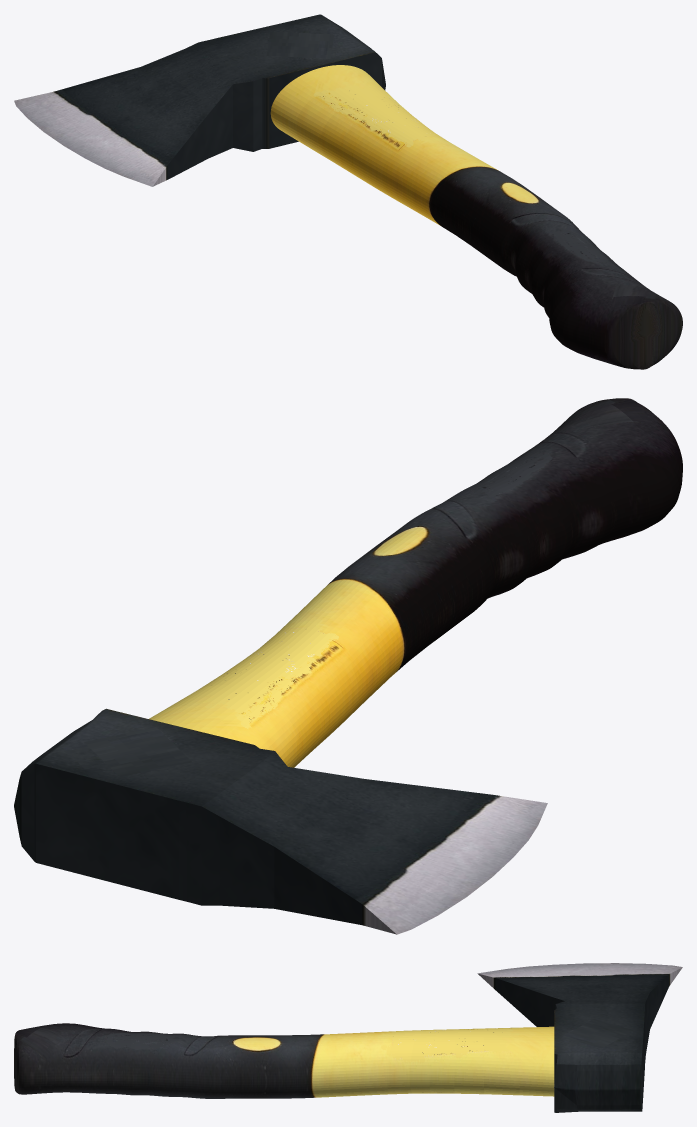
Rendered from axe.fbx.
The picture shows the model from 3 angles, top to bottom: view 1: azimuth 30°, elevation 25°; view 2: azimuth 150°, elevation 25°; view 3: azimuth 270°, elevation 25°; orthographic projection. The views are drawn at different scales.
Visible parts, largest first — view 1: Cylinder, Cube; view 2: Cube, Cylinder; view 3: Cylinder, Cube.
Boxes of the visible parts, x1,y1,x2,y2 form: Cylinder: [270, 65, 682, 369]; Cube: [14, 14, 385, 186]; Cube: [14, 708, 547, 934]; Cylinder: [149, 398, 682, 767]; Cylinder: [14, 1023, 554, 1098]; Cube: [477, 963, 682, 1112].
Bounding box in the file's own units: 428 × 93.04 × 953.
